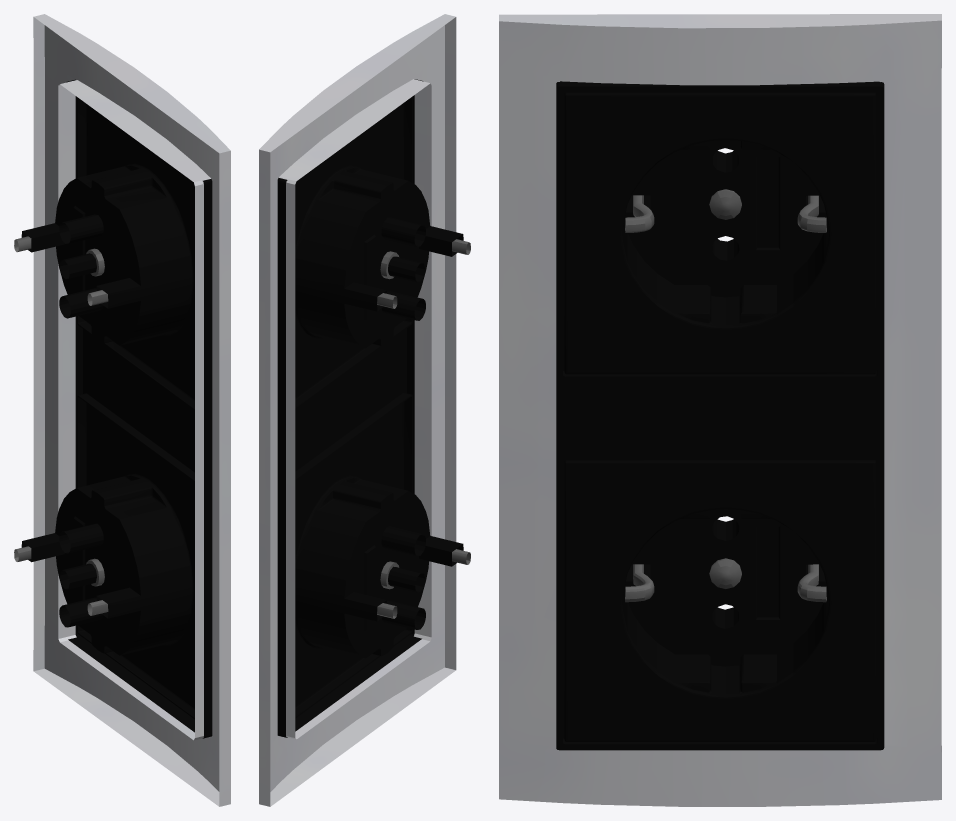
Rendered from SM_Socket_030.obj.
The picture shows the model from 3 angles, left to right: view 1: azimuth 30°, elevation 25°; view 2: azimuth 150°, elevation 25°; view 3: azimuth 270°, elevation 25°; orthographic projection. The views are drawn at different scales.
Parts seen in each view (by area): view 1: SM_Socket_030; view 2: SM_Socket_030; view 3: SM_Socket_030.
Boxes of the visible parts, left/top/right/bottom form: SM_Socket_030: left=14, top=14, right=230, bottom=806; SM_Socket_030: left=259, top=14, right=470, bottom=806; SM_Socket_030: left=499, top=14, right=941, bottom=806.
Bounding box in the file's own units: 0.0251 × 0.1622 × 0.0835.
3 materials, 2 textured.
